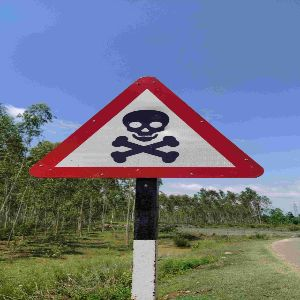Accident prone area: (20, 70, 273, 192)
